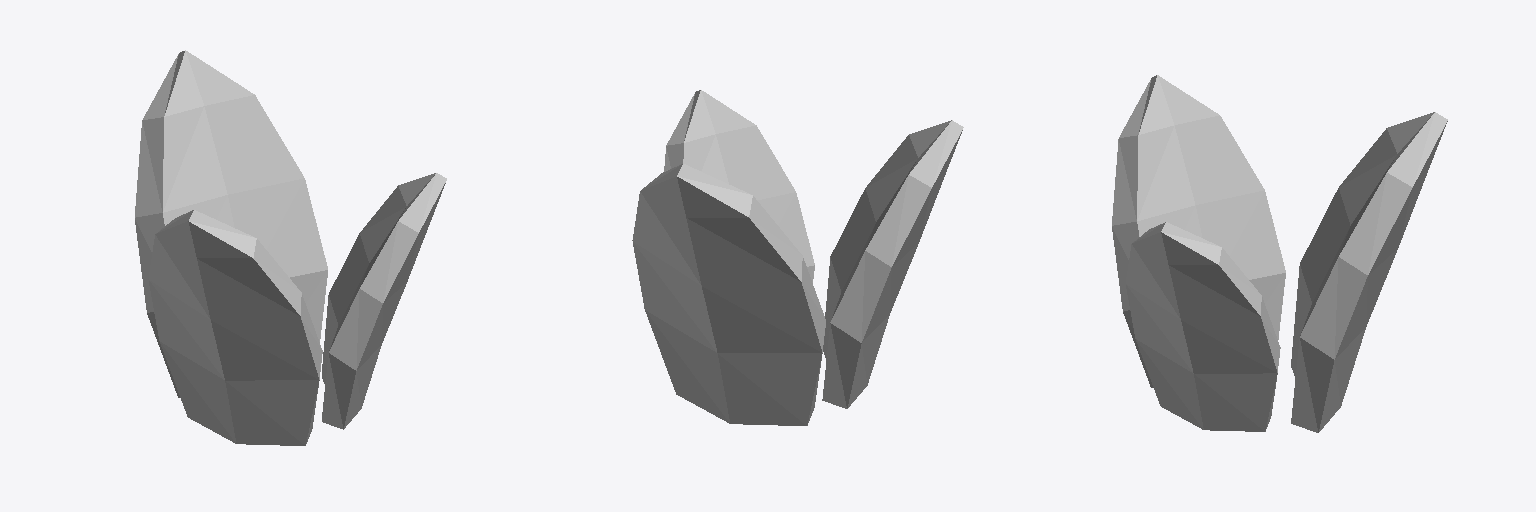
Rendered from Grass_1_B_Color1.obj.
3 views of the same model, side by side, from view 1: azimuth 30°, elevation 25°; view 2: azimuth 150°, elevation 25°; view 3: azimuth 270°, elevation 25° (orthographic).
Parts seen in each view (by area): view 1: Grass_1_B_Color1; view 2: Grass_1_B_Color1; view 3: Grass_1_B_Color1.
Boxes of the visible parts, x1,y1,x2,y2 form: Grass_1_B_Color1: [135, 50, 446, 445]; Grass_1_B_Color1: [632, 90, 963, 425]; Grass_1_B_Color1: [1112, 75, 1447, 432].
Bounding box in the file's own units: 0.5051 × 0.5375 × 0.5557.